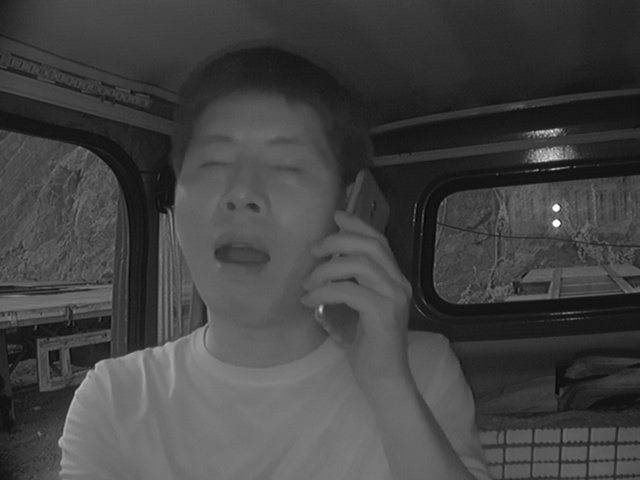hand: (304, 214, 419, 368)
